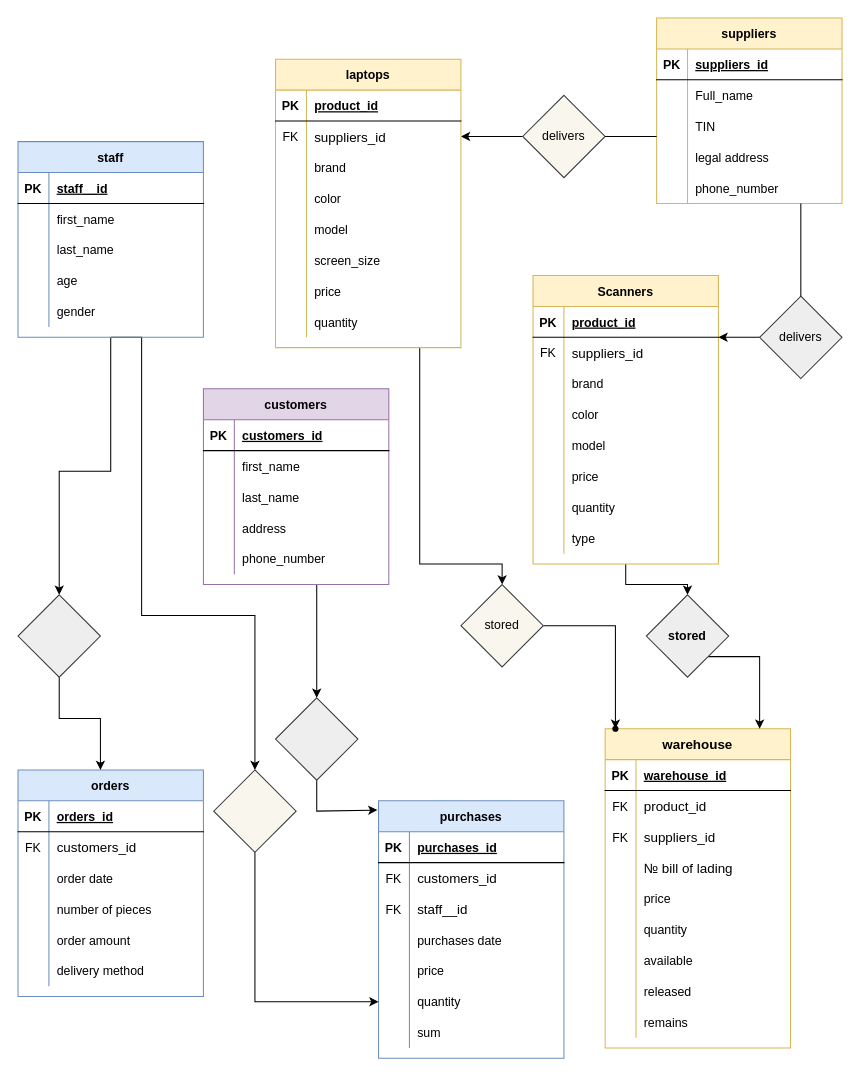
Some shapes in this 860 by 1076 pixel diagram are drawn without their labels. Each missing label, with the centre of its shape:
"commits" goes at (316,738).
"does" goes at (58,635).
"makes out" goes at (254,810).
